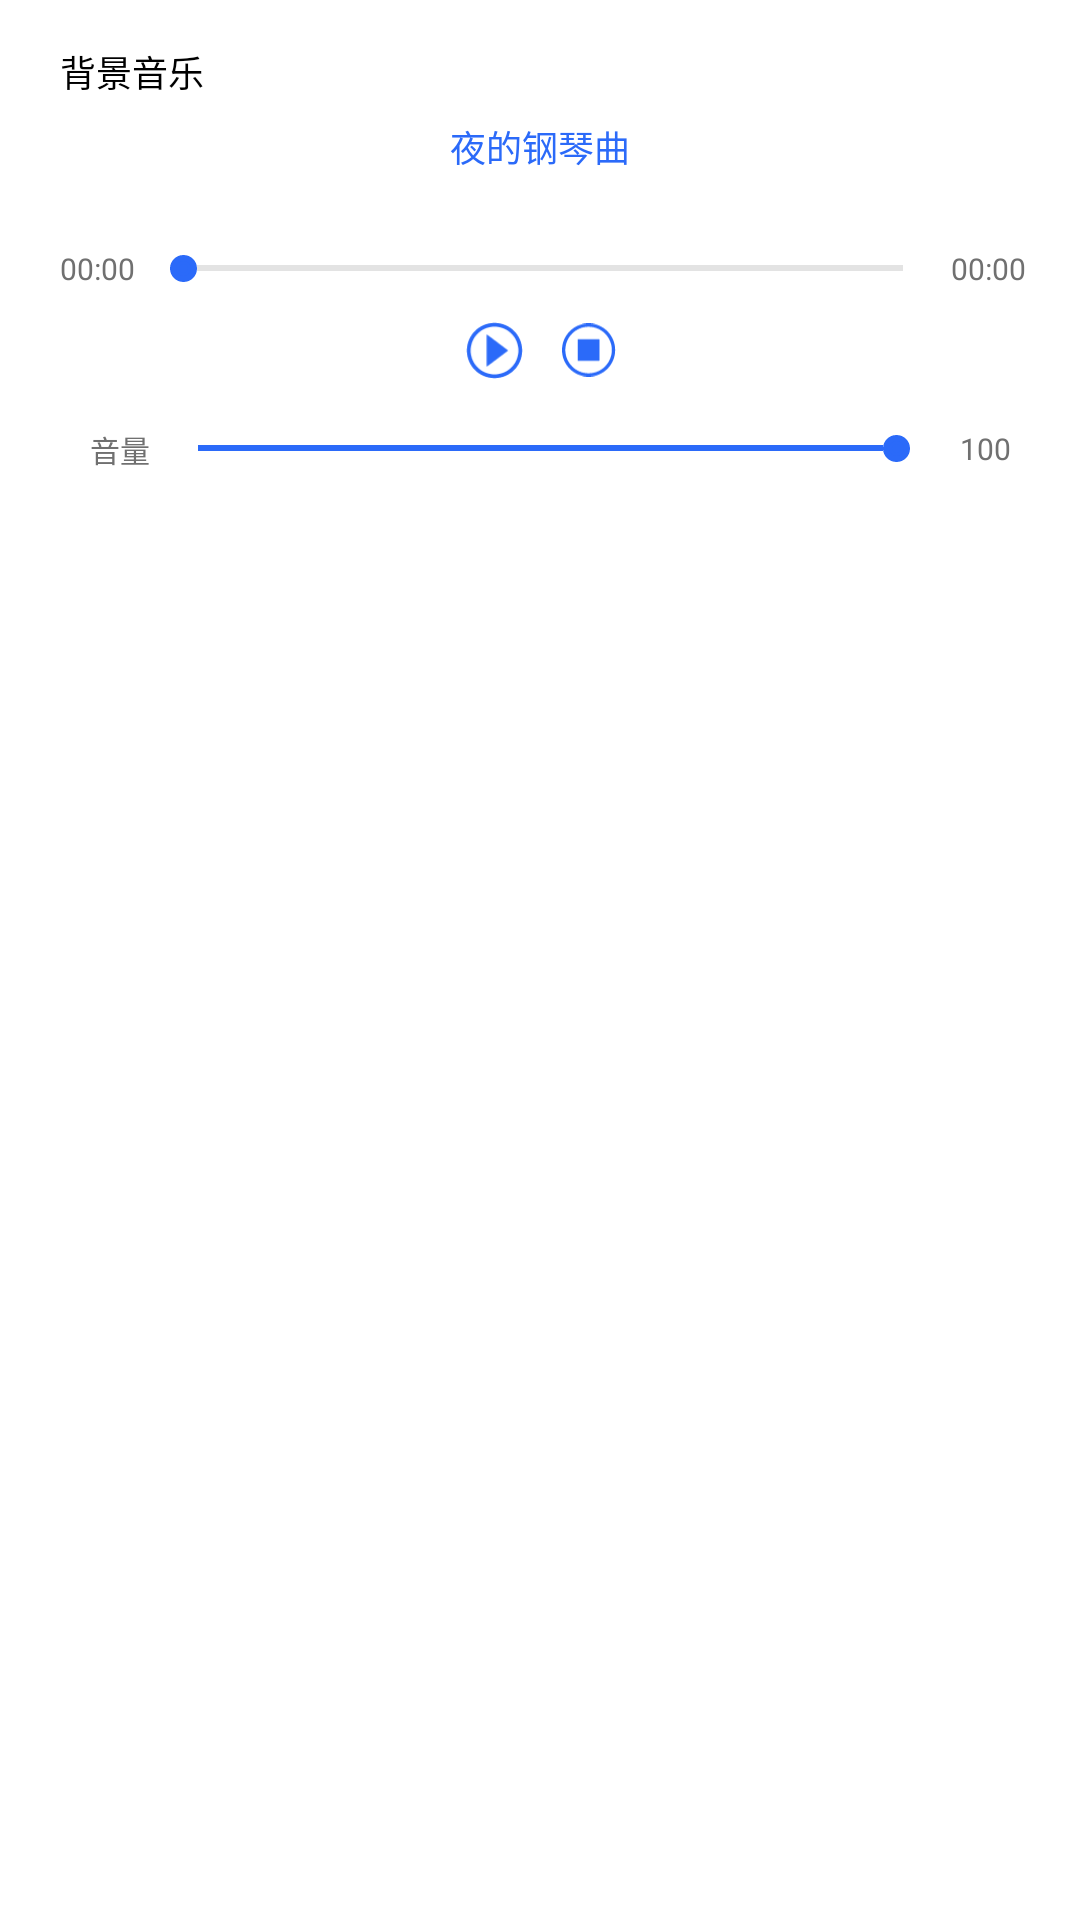

Icon click points for this 1080 x 1920 phone screenshot, format point (x, y):
play: point (494, 350)
stop: point (589, 350)
